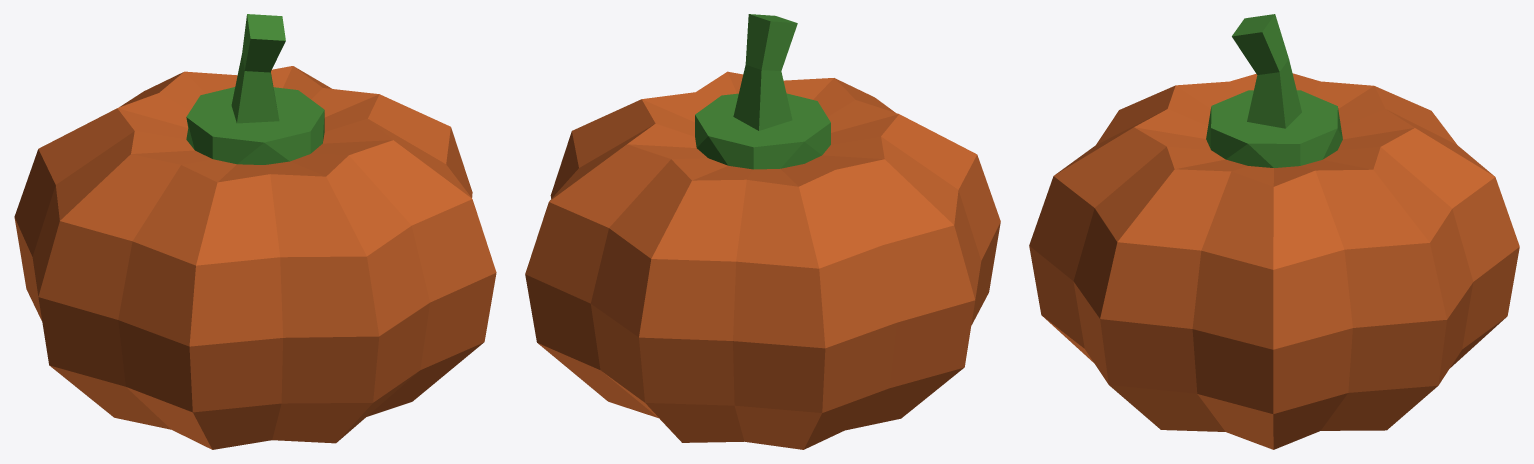
Rendered from pumpkin_spawn.fbx.
The picture shows the model from 3 angles, left to right: view 1: azimuth 30°, elevation 25°; view 2: azimuth 150°, elevation 25°; view 3: azimuth 270°, elevation 25°; orthographic projection.
Visible parts, largest first — view 1: Pumpkin; view 2: Pumpkin; view 3: Pumpkin.
Boxes of the visible parts, box(x1,y1,x2,y2) form: Pumpkin: box(14, 14, 496, 449); Pumpkin: box(525, 14, 1000, 449); Pumpkin: box(1029, 14, 1519, 449).
Bounding box in the file's own units: 0.00652 × 0.00536 × 0.00652.
